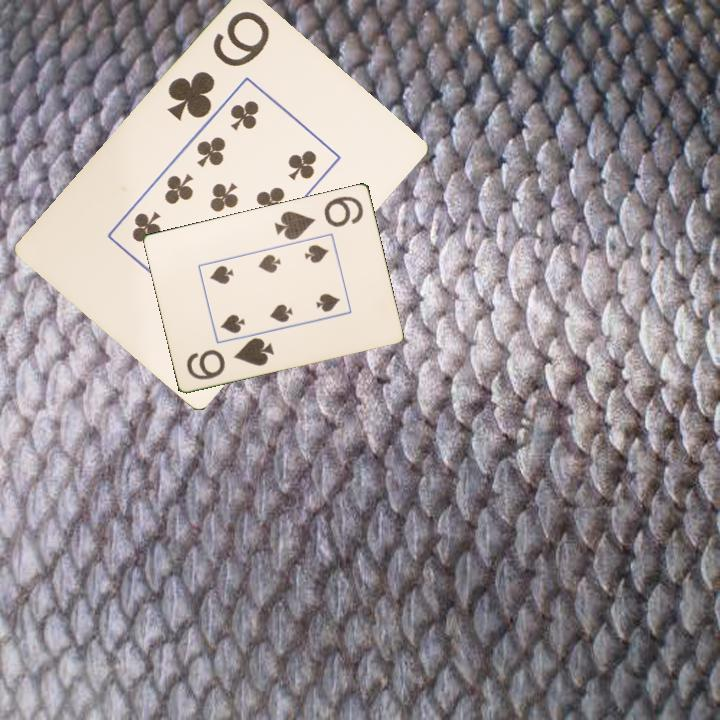6s: (271, 192, 366, 242), (183, 334, 277, 382)
9c: (163, 7, 273, 124)
